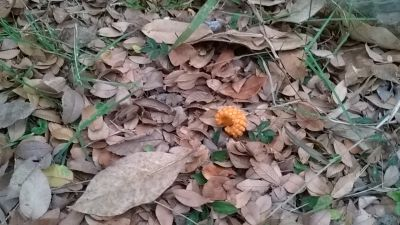eggs: (215, 105, 250, 138)
